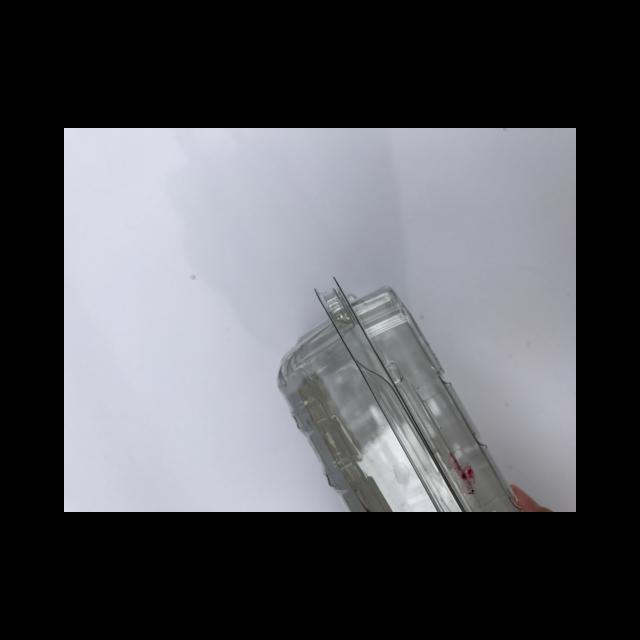plastic: (276, 276, 520, 511)
